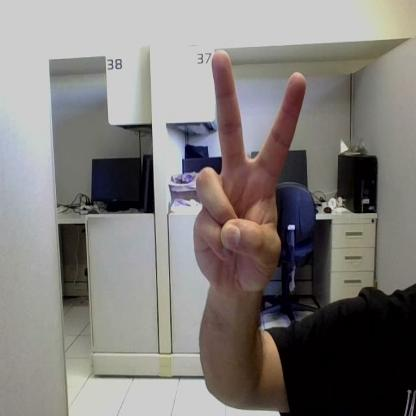V: (195, 52, 304, 288)
